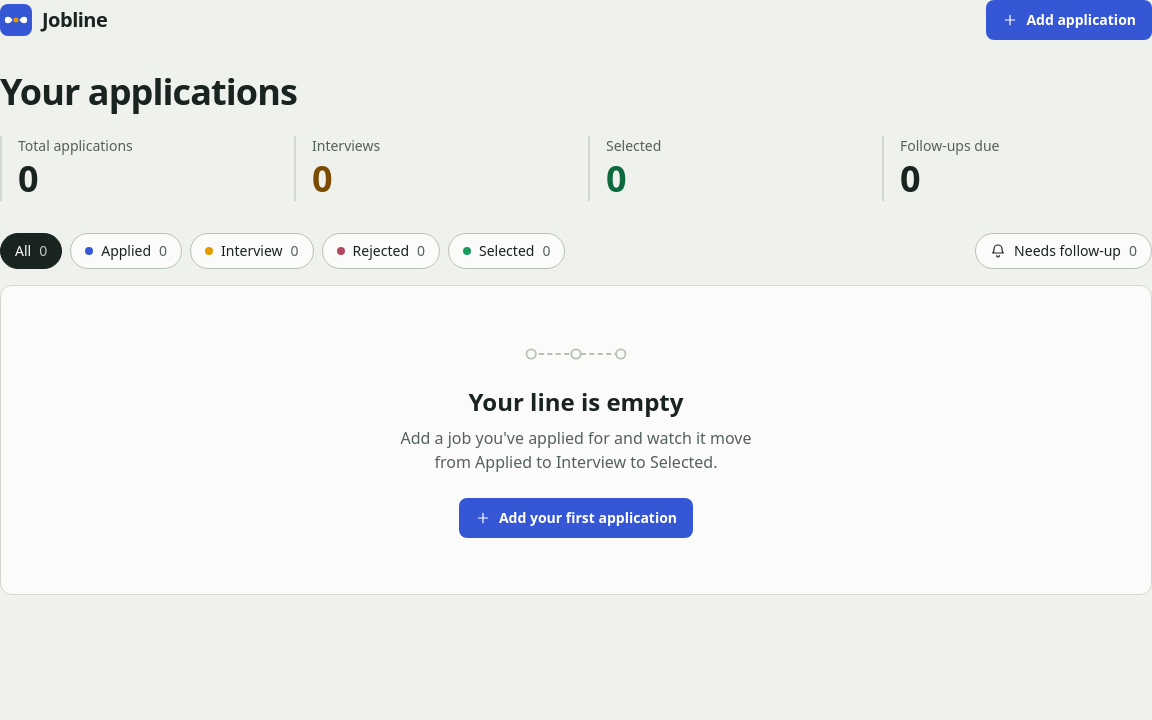
Test case: Jobline UI › rolls back an optimistic status change when the server fails
Expected: the heading "Your line is empty" is shown, [469,386,684,418]
Click the button "Add application": (1069, 20) [986,0,1151,40]
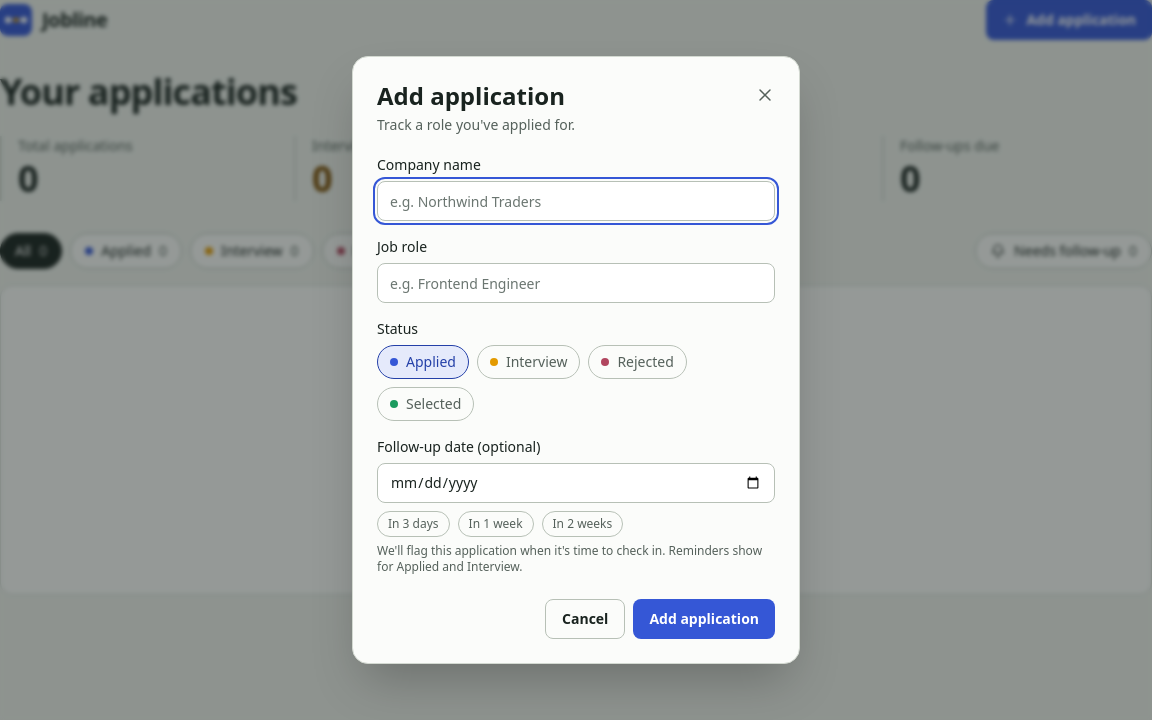
In the field labelled "Company name": (576, 201) [377,181,775,221], type "Initech"
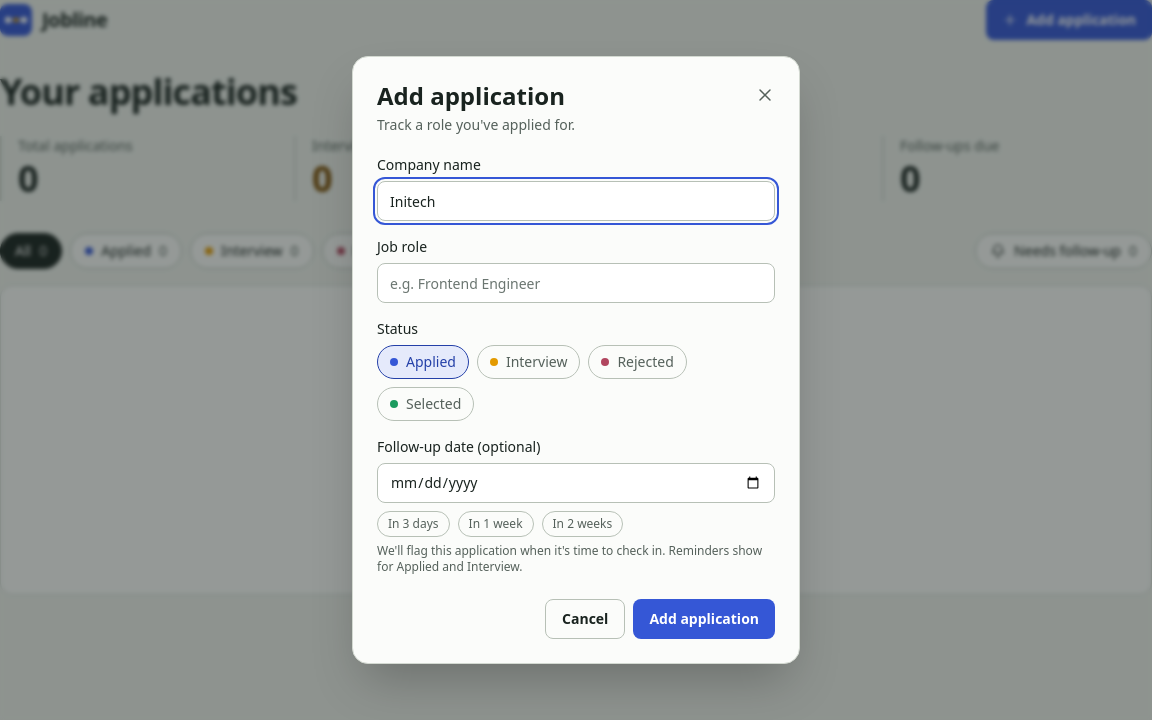
In the field labelled "Job role": (576, 283) [377,263,775,303], type "Analyst"
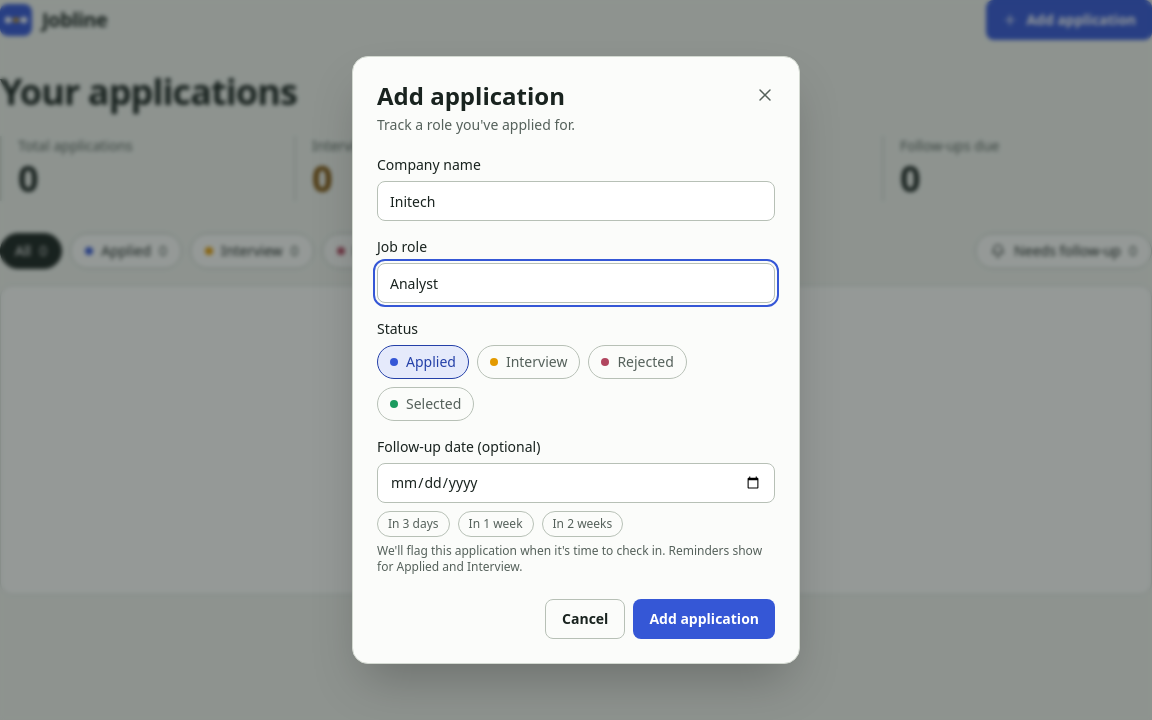
Click the button "Add application": (704, 619) [633,599,775,639]
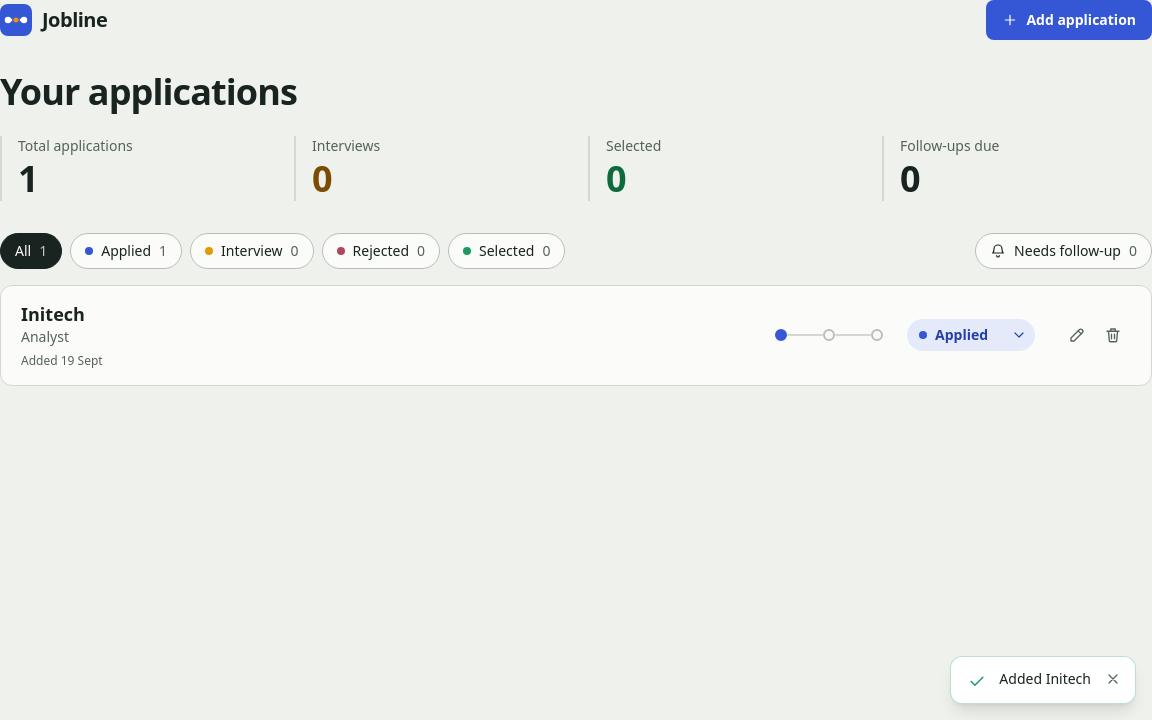
Now the dialog is gone
Select "Rejected" in the dropdown named "Status for Initech, Analyst": (971, 335) [907,319,1035,351]
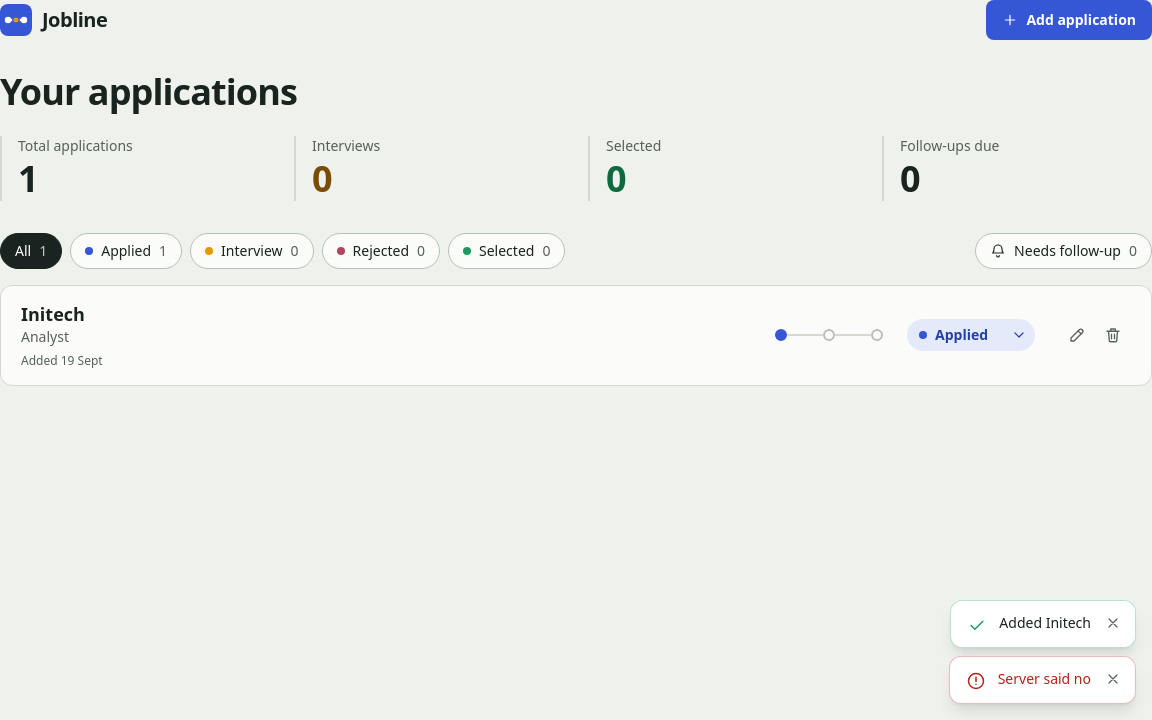
Now the text "Server said no" is shown, box [998,669,1091,689]
